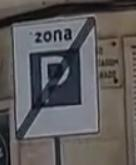fim de zona de estacionamento autorizado: (6, 14, 109, 144)
